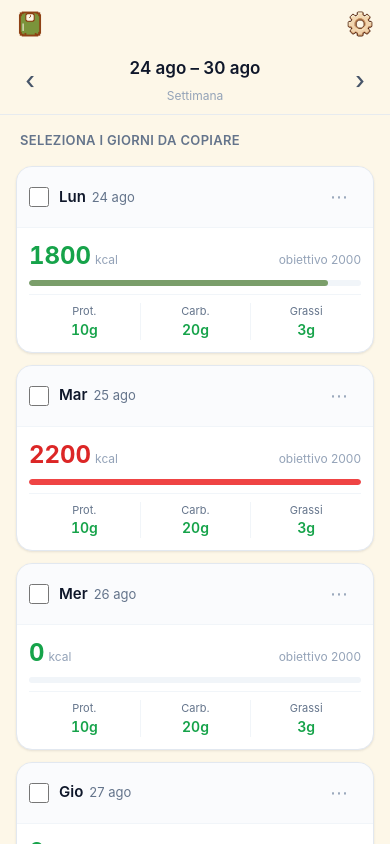
Test case: WeekPage › opens the copy dialog for a single day from its ⋯ menu
Click the button named "Altre azioni 2026-08-24". click: [339, 197]
box: [317,175,361,219]
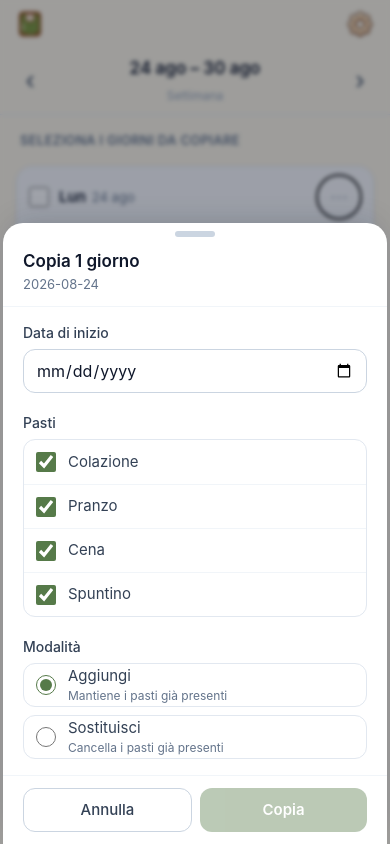
Check: the dialog named "copia giorni" is shown
